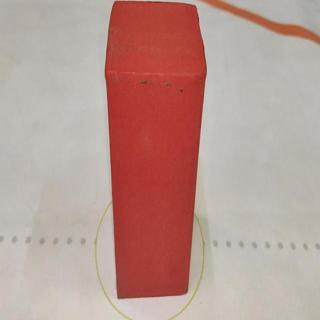redbox: (105, 0, 207, 299)
